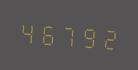four: (18, 16, 37, 47)
nine: (78, 20, 97, 51)
seven: (58, 19, 77, 50)
six: (38, 17, 57, 49)
two: (98, 22, 117, 53)
